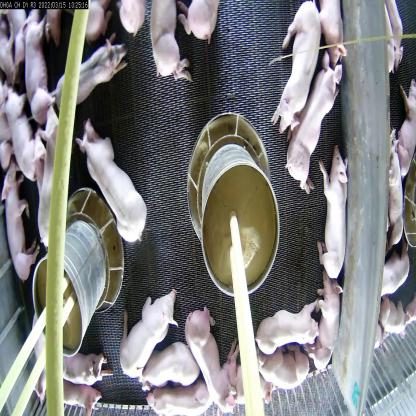Pig: (80, 130, 151, 244), (284, 63, 340, 195), (32, 115, 83, 249), (275, 0, 318, 148), (51, 35, 126, 110), (121, 293, 177, 375), (0, 161, 37, 280), (187, 304, 227, 404), (48, 327, 108, 388), (322, 166, 354, 270), (38, 366, 104, 416), (147, 10, 188, 88), (259, 293, 317, 347), (153, 366, 215, 416), (148, 336, 200, 393), (1, 88, 34, 174), (307, 293, 343, 370), (259, 340, 316, 387), (224, 333, 266, 395)
